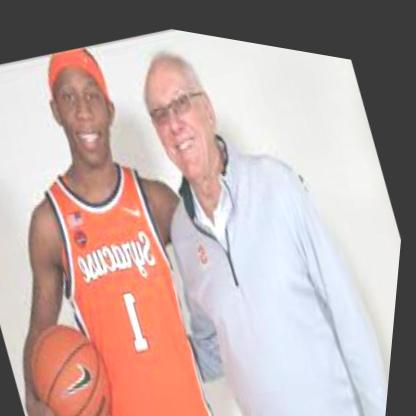basketball: (20, 304, 136, 416)
